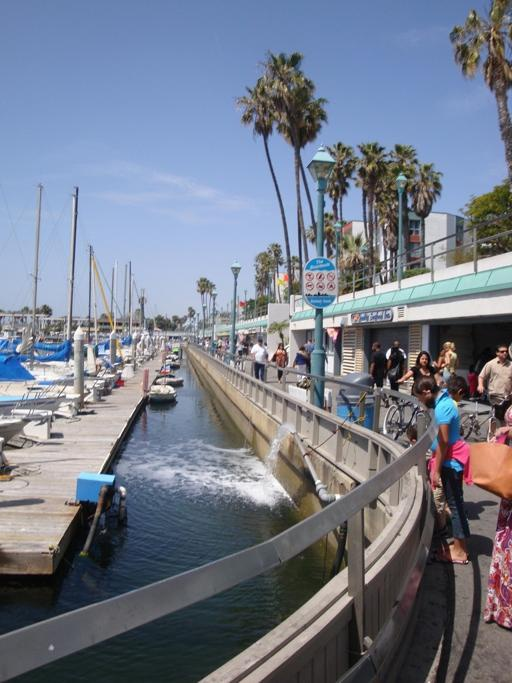non-vehicle: (383, 379, 430, 440), (459, 391, 511, 444)
